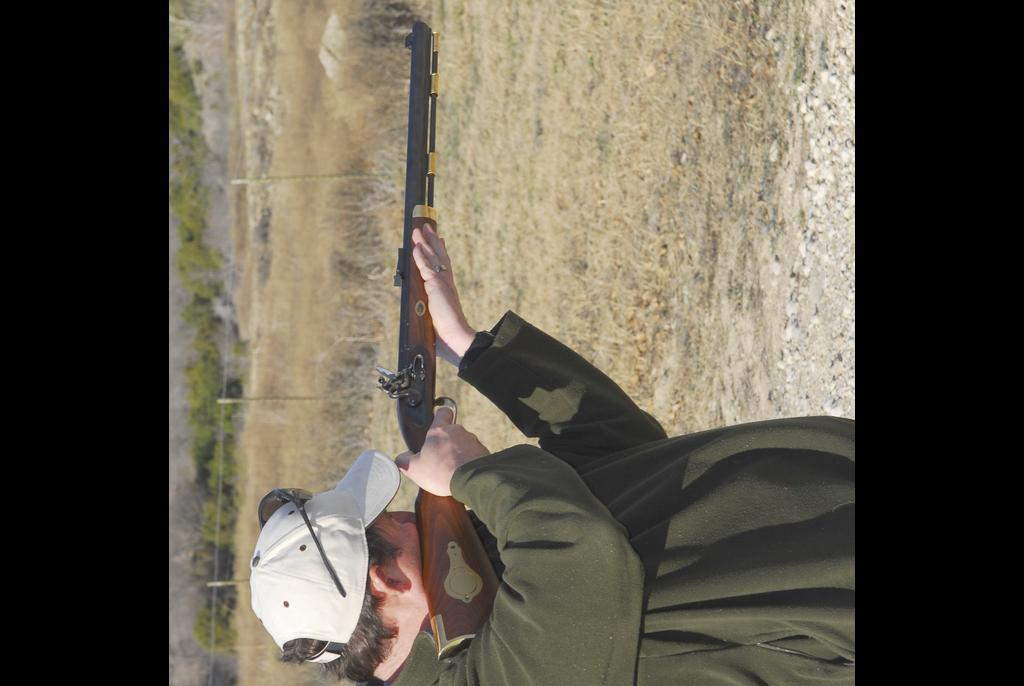gun: (390, 16, 500, 661)
